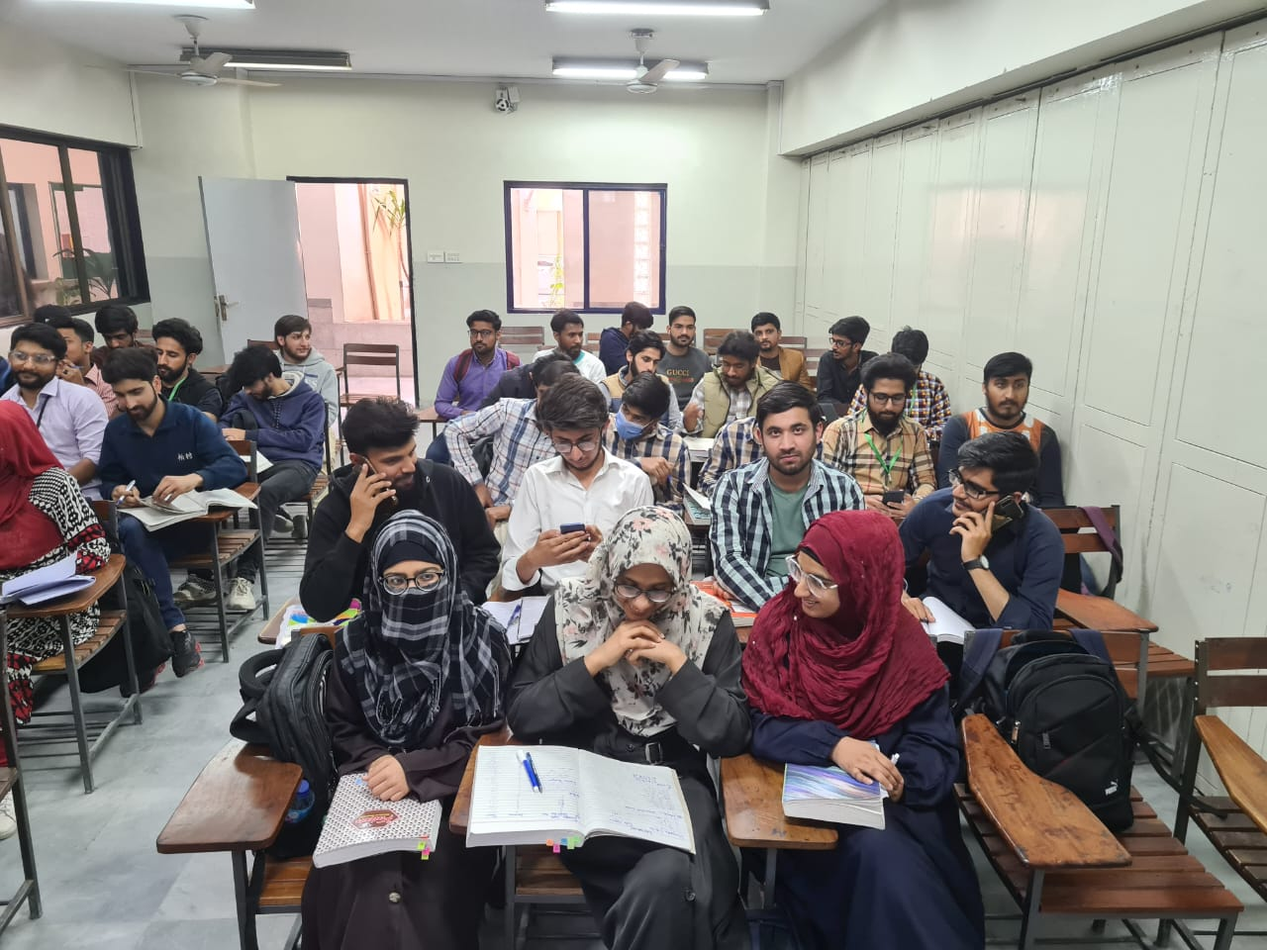non-cheating: (594, 506, 696, 648), (365, 508, 462, 640), (949, 428, 1043, 530), (536, 369, 612, 474), (749, 379, 828, 478), (102, 344, 165, 426), (854, 350, 916, 430), (979, 346, 1036, 427), (6, 320, 68, 392), (151, 315, 207, 384), (714, 331, 763, 387), (626, 327, 665, 382), (465, 307, 503, 357), (750, 309, 785, 356), (665, 303, 698, 351)
phone: (946, 491, 1026, 566), (340, 451, 401, 538), (528, 517, 607, 569), (615, 370, 673, 439), (855, 483, 918, 524)
